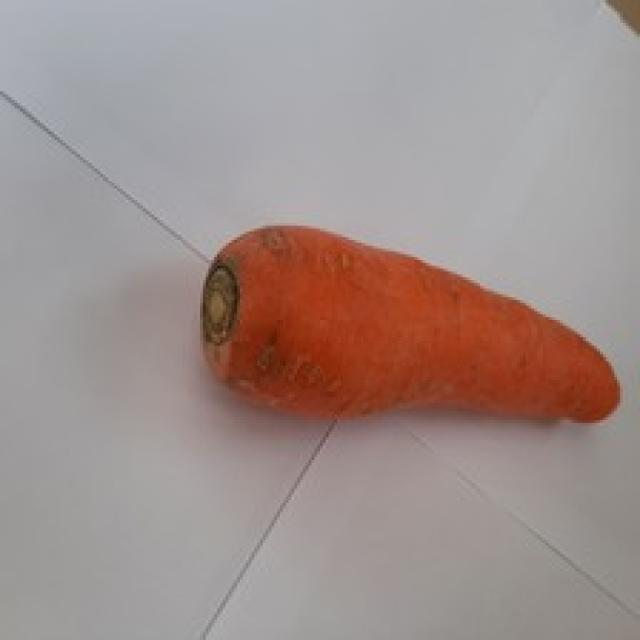Fresh_Carrot: (256, 221, 604, 452)
